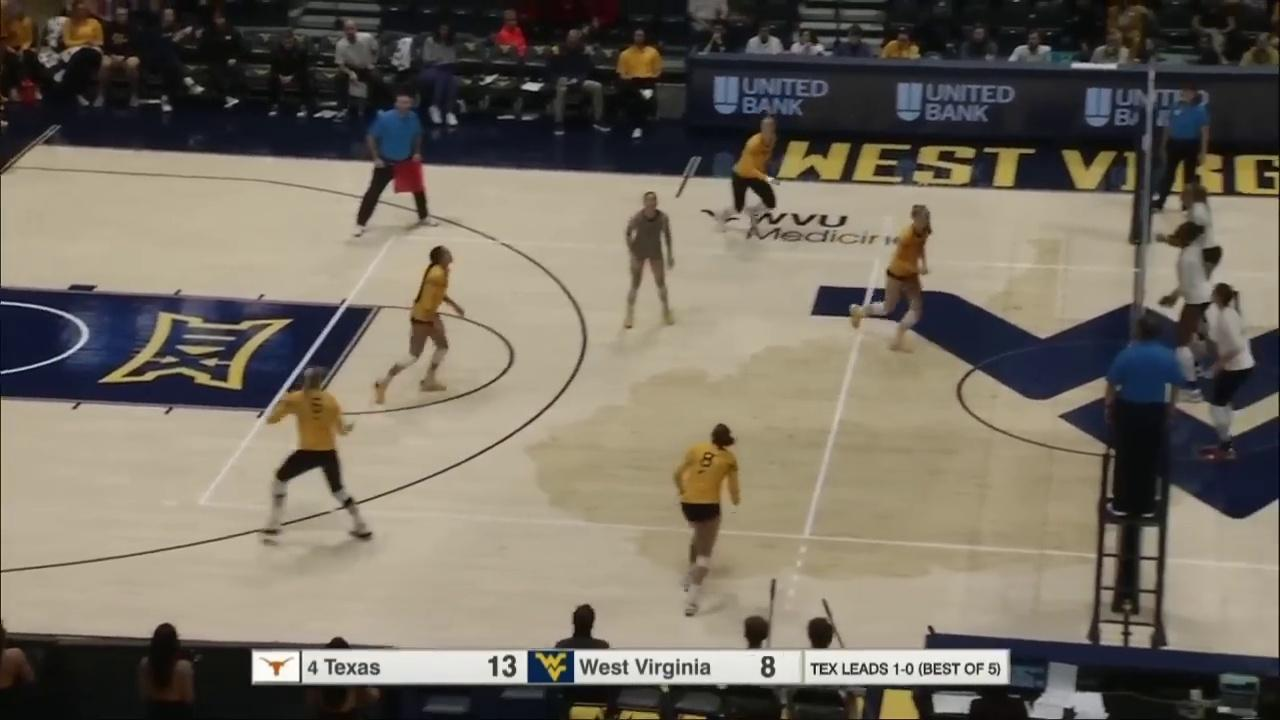player: (256, 366, 375, 542), (667, 424, 745, 617), (371, 243, 463, 401), (848, 202, 931, 354), (1161, 220, 1217, 401), (1202, 281, 1253, 459), (1175, 179, 1225, 339), (623, 189, 675, 331), (718, 115, 779, 236)
refree: (1104, 313, 1183, 518), (353, 92, 437, 235), (1155, 85, 1211, 225)
